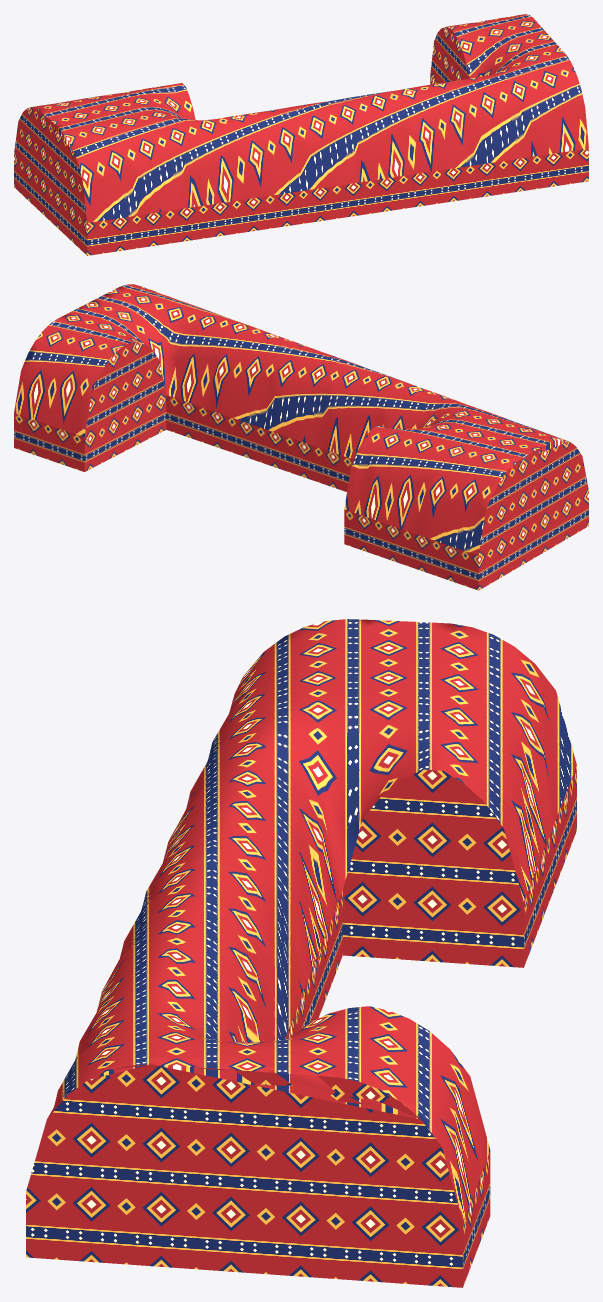
File: landmark-carpet-museum.glb
The picture shows the model from 3 angles, top to bottom: view 1: azimuth 30°, elevation 25°; view 2: azimuth 150°, elevation 25°; view 3: azimuth 270°, elevation 25°; orthographic projection. The views are drawn at different scales.
Parts seen in each view (by area): view 1: carpet-museum; view 2: carpet-museum; view 3: carpet-museum.
Part boxes in pixels (<box>): carpet-museum: <box>14,14,588,255</box>; carpet-museum: <box>14,284,588,590</box>; carpet-museum: <box>26,619,576,1287</box>.
Bounding box in the file's own units: 126 × 25.21 × 62.33.
Materials: 1 (1 with a texture image).
